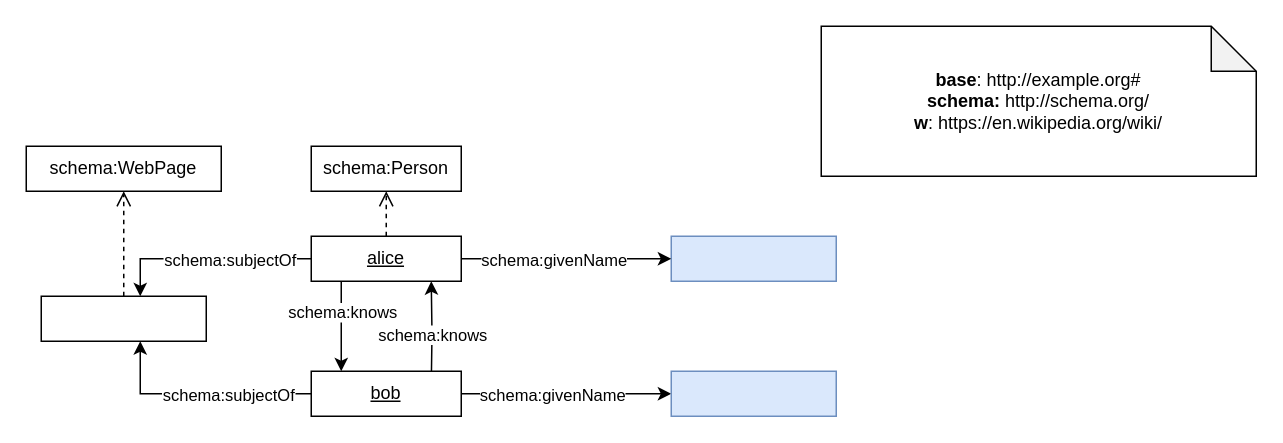
Image size: 1283x443. Some labels were removed from this diagram. The box of each missing label's shape, as (x1, y1, x2, y2) in pixels:
"Alice"^^xsd:string: (670, 235, 836, 281)
"Bob"^^xsd:string: (670, 370, 836, 416)
w:Alice_and_Bob: (40, 295, 206, 341)
